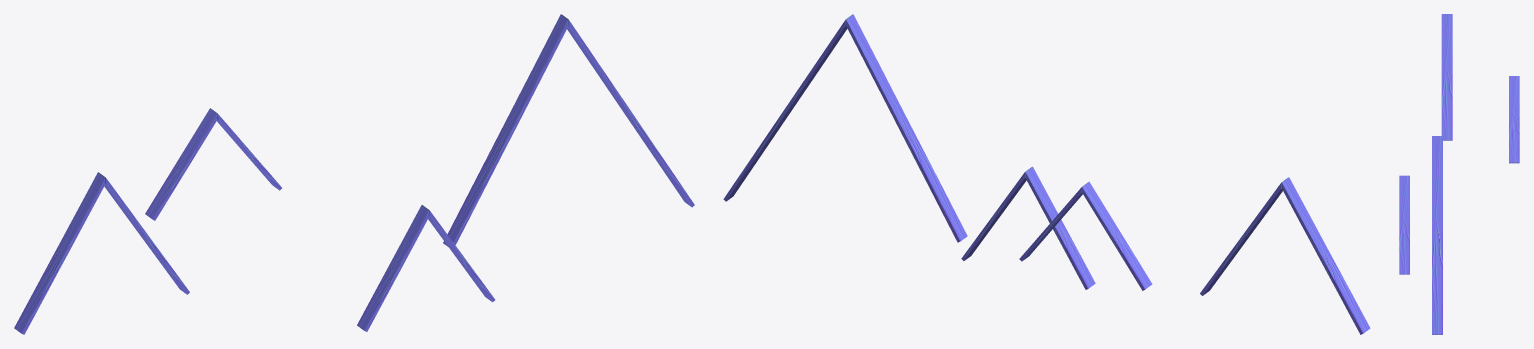
File: mansion_support.fbx
The picture shows the model from 3 angles, left to right: view 1: azimuth 30°, elevation 25°; view 2: azimuth 150°, elevation 25°; view 3: azimuth 270°, elevation 25°; orthographic projection. The views are drawn at different scales.
Parts seen in each view (by area): view 1: Cube.031, Cube, Cube.029, Cube.032, Cube.026, Cube.024, Cube.030, Cube.028; view 2: Cube.031, Cube, Cube.029, Cube.032, Cube.026, Cube.024, Cube.030, Cube.028; view 3: Cube.032, Cube.024, Cube.030, Cube.028.
Boxes of the visible parts, box(x1,y1,x2,y2) form: Cube.031: box(443, 14, 568, 246); Cube: box(14, 172, 105, 334); Cube.029: box(357, 205, 429, 331); Cube.032: box(561, 14, 694, 207); Cube.026: box(145, 108, 217, 220); Cube.024: box(98, 172, 189, 294); Cube.030: box(422, 205, 495, 302); Cube.028: box(210, 108, 281, 190); Cube.031: box(846, 14, 967, 242); Cube: box(1282, 177, 1370, 334); Cube.029: box(1025, 167, 1095, 289); Cube.032: box(723, 14, 852, 201); Cube.026: box(1082, 182, 1152, 290); Cube.024: box(1200, 177, 1288, 295); Cube.030: box(961, 167, 1031, 260); Cube.028: box(1019, 182, 1088, 261); Cube.032: box(1432, 136, 1442, 334); Cube.024: box(1441, 14, 1452, 140); Cube.030: box(1399, 175, 1409, 274); Cube.028: box(1509, 76, 1519, 163).
Size of the model in its own units: 1557 by 540 by 341.
